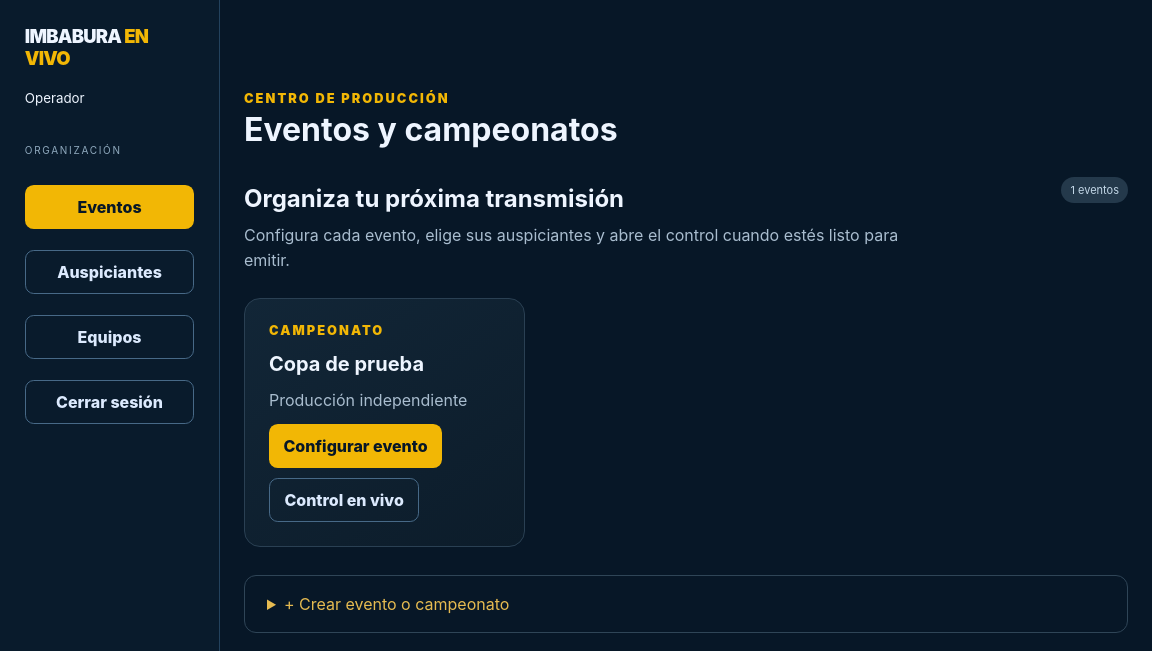
it: media se prepara en configuración y no ocupa el control en vivo
Click the button "Control en vivo": (344, 500) 269,478 -> 419,522
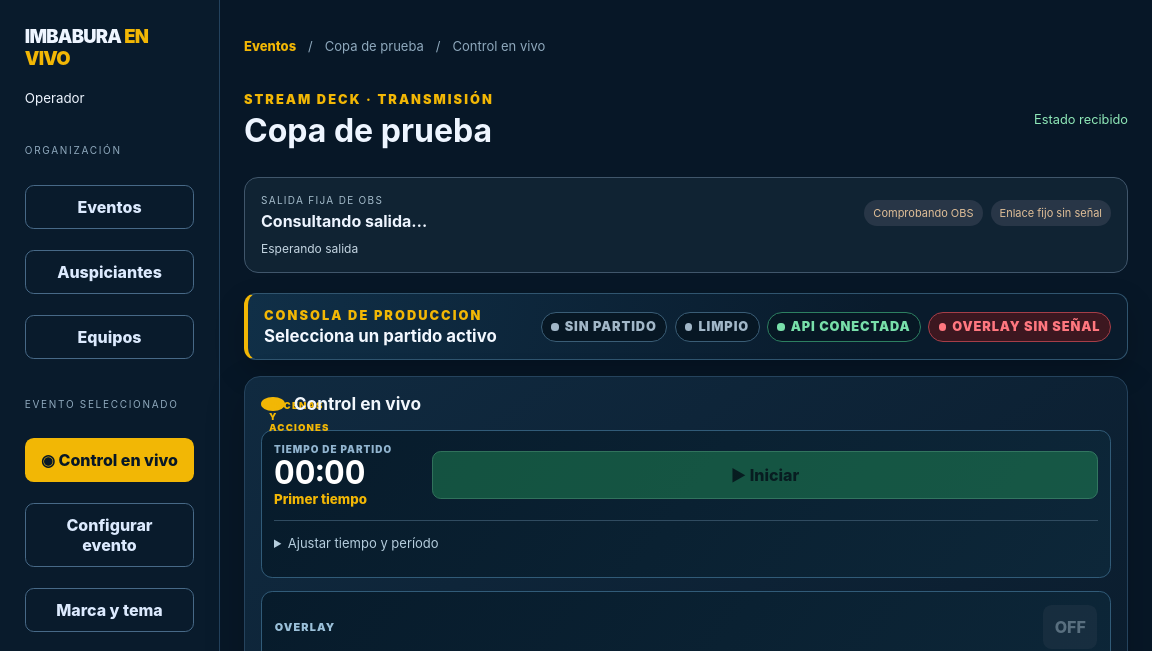
Check: the text "Media y motion graphics" is not shown
Click the button "Configurar evento": (110, 535) 25,503 -> 194,567
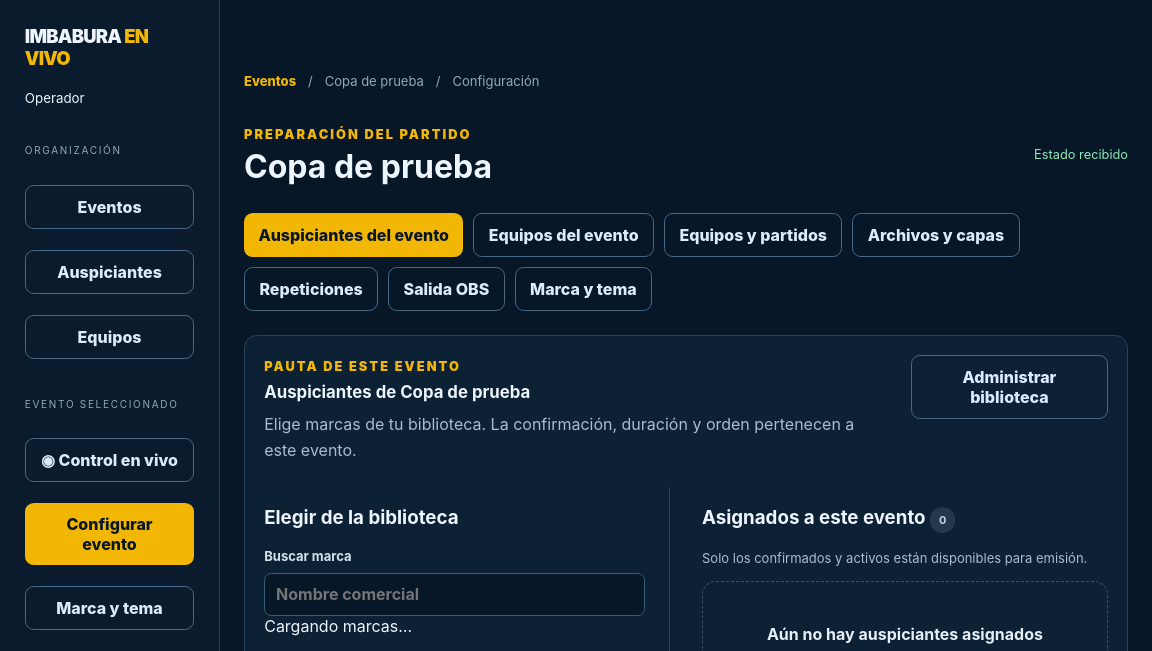
Click the button "Archivos y capas": (936, 235) 852,213 -> 1020,257
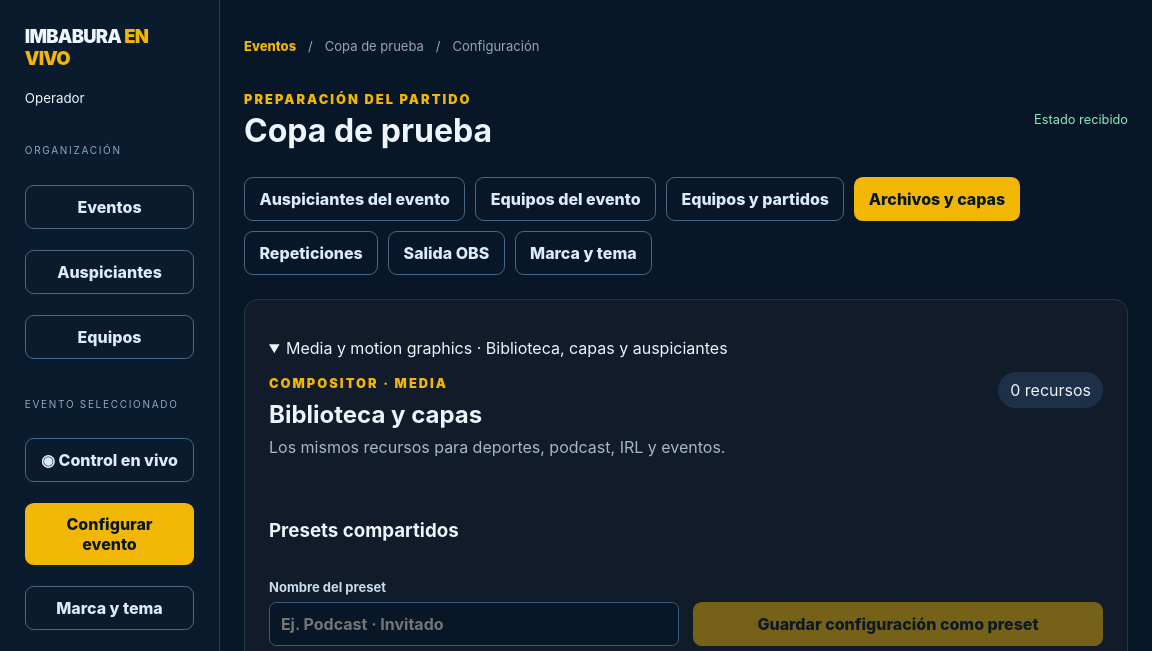
Check: the heading "Media y motion graphics · Biblioteca, capas y auspiciantes" is shown, box 286,338 -> 728,358
